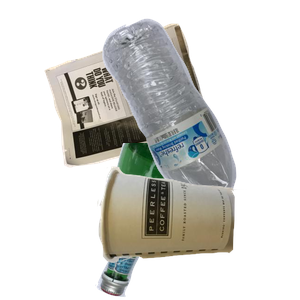glass: (93, 143, 284, 300)
paper: (42, 21, 249, 181)
plastic: (100, 16, 300, 196)
trash: (95, 164, 300, 300)
